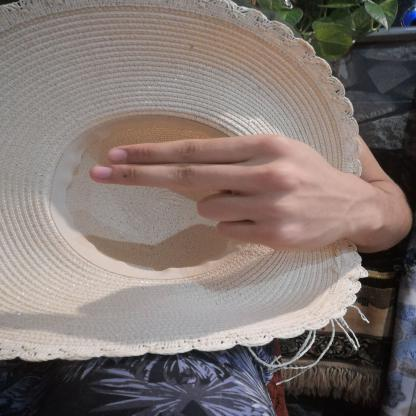AYN: (73, 120, 392, 267)
